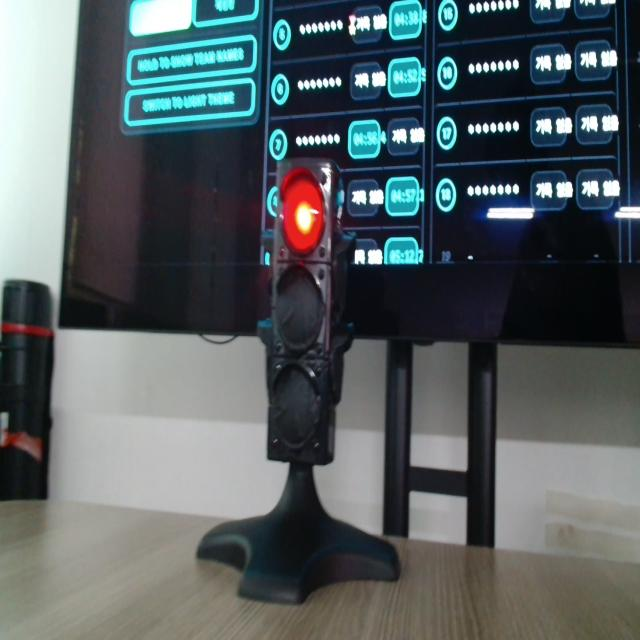red_light: (281, 169, 324, 254)
